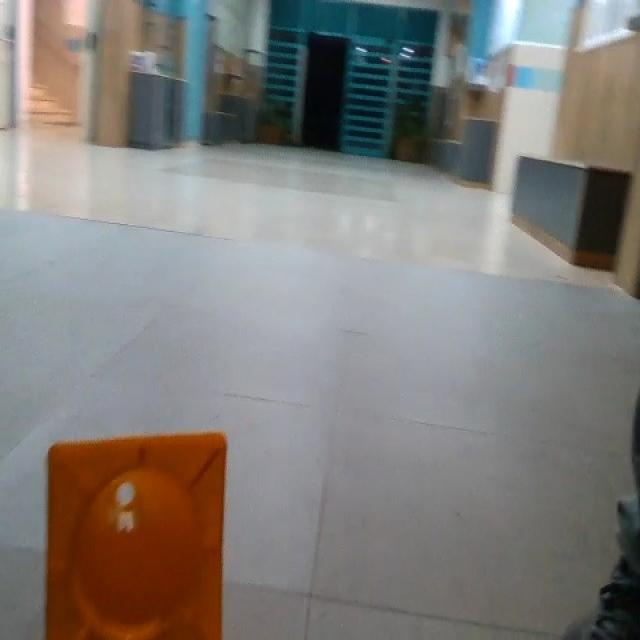cone: (47, 431, 233, 637)
